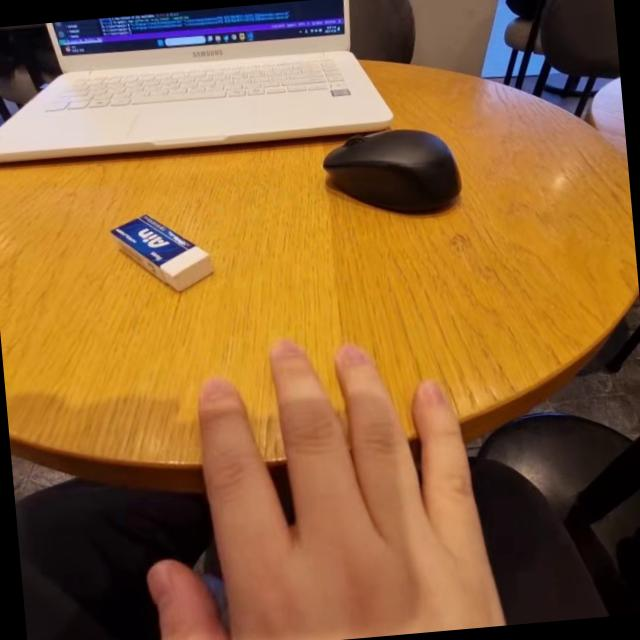eraser: (106, 203, 220, 297)
hand: (122, 329, 492, 640)
mouse: (310, 116, 468, 231)
